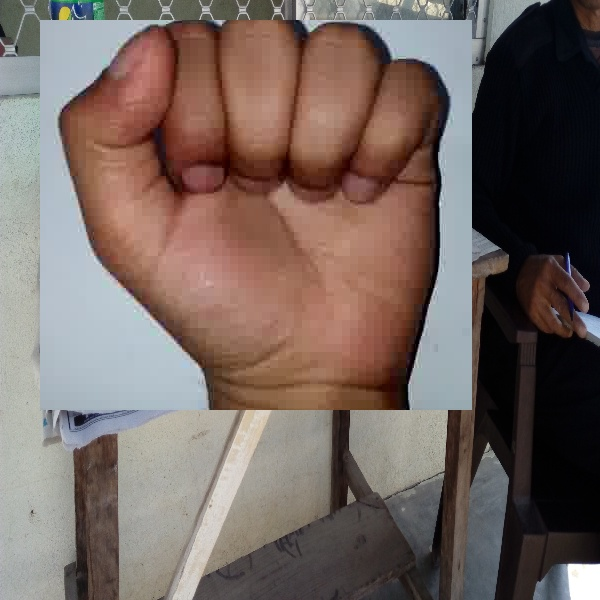A: (40, 20, 472, 410)
